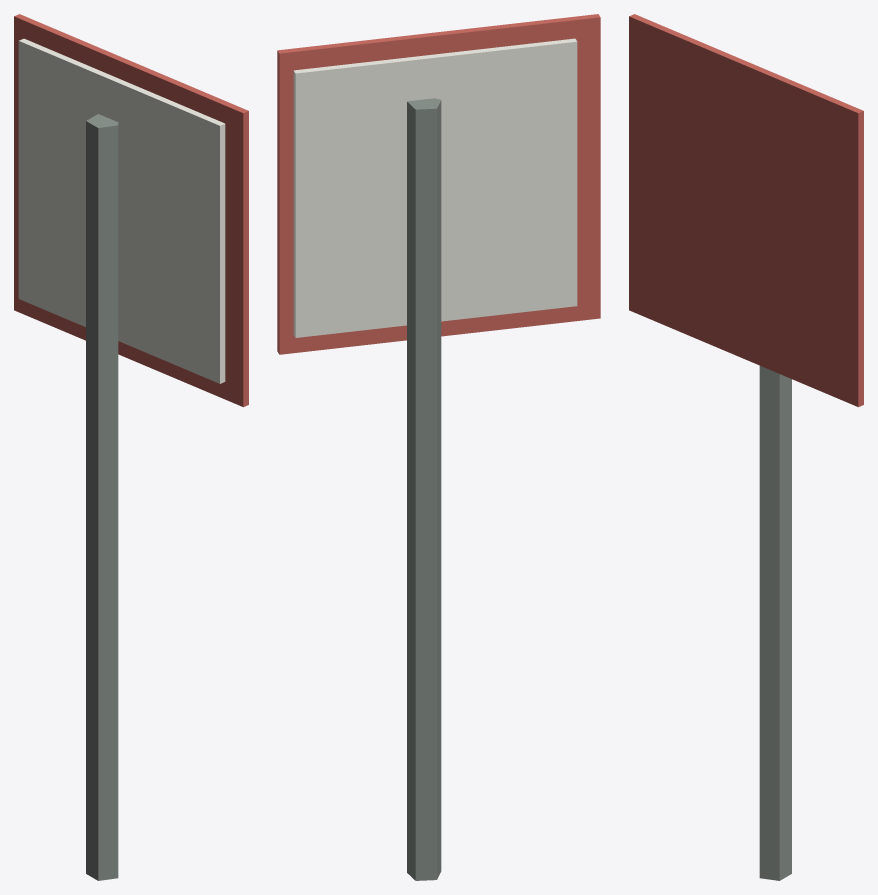
The model's file is give-way-sign-lod1.glb.
3 renders of one model, left to right at view 1: azimuth 90°, elevation 25°; view 2: azimuth 150°, elevation 25°; view 3: azimuth 270°, elevation 25°, orthographic. The views are drawn at different scales.
Visible parts, largest first — view 1: sign_face, post, sign_border; view 2: sign_face, post, sign_border; view 3: sign_border, post.
Boxes of the visible parts, x1,y1,x2,y2 form: sign_face: [18, 38, 225, 383]; post: [86, 114, 118, 880]; sign_border: [14, 14, 248, 407]; sign_face: [293, 38, 577, 337]; post: [407, 98, 441, 880]; sign_border: [277, 14, 600, 354]; sign_border: [629, 14, 863, 407]; post: [759, 366, 791, 880].
Bounding box in the file's own units: 0.594 × 2.26 × 0.594.
